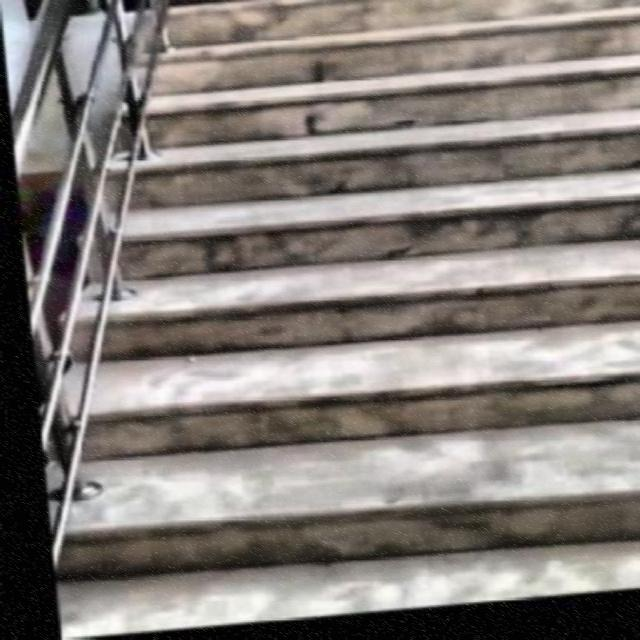stair: (41, 0, 638, 637)
